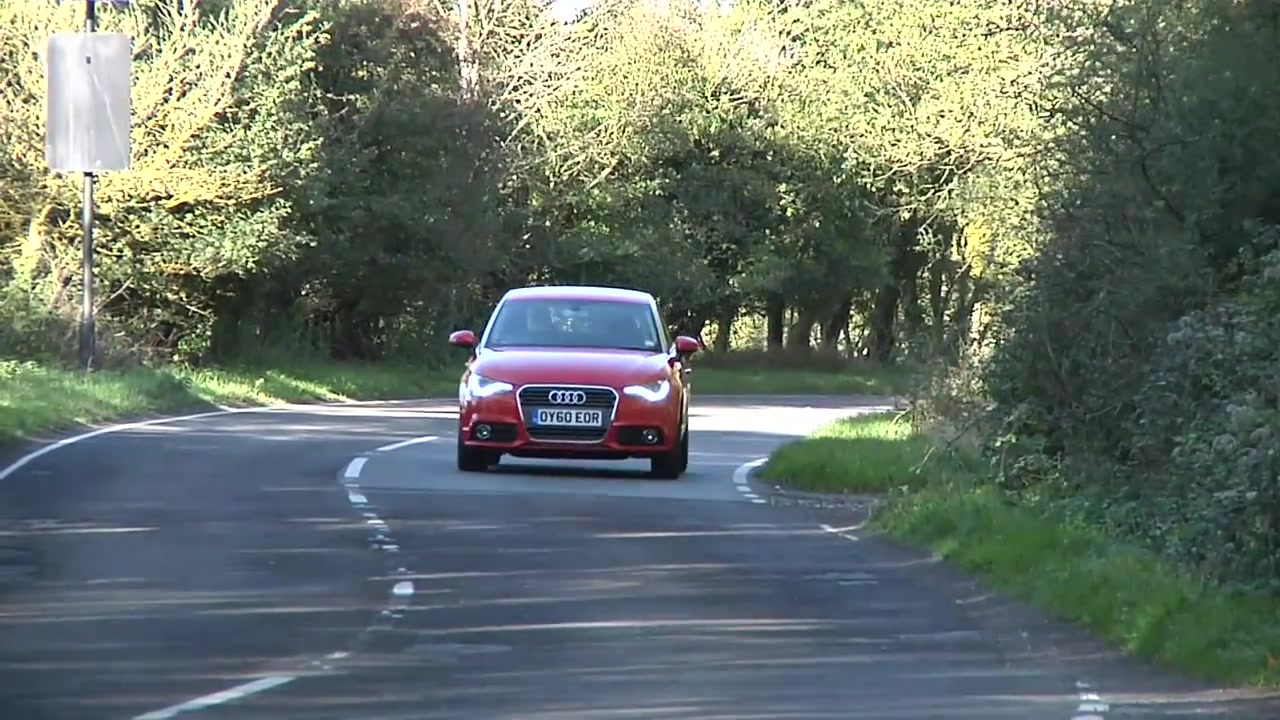car: (439, 282, 699, 476)
